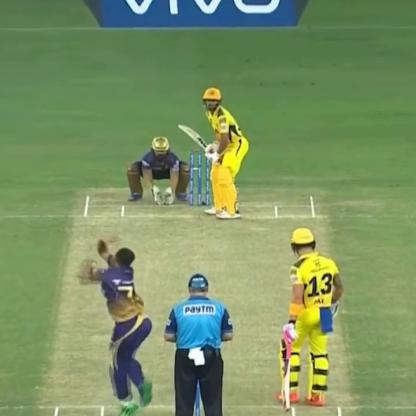bat: (275, 332, 300, 412), (175, 125, 213, 155)
pitch: (46, 197, 348, 416)
